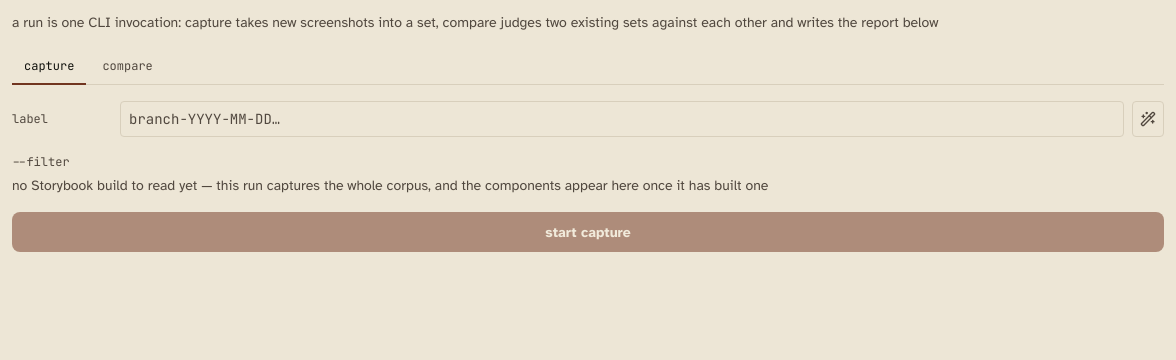
Test: the label wand › says so rather than doing nothing when no name can be had
Click the button named "suggest a label" at (1148, 119), box [1132,101,1164,137]
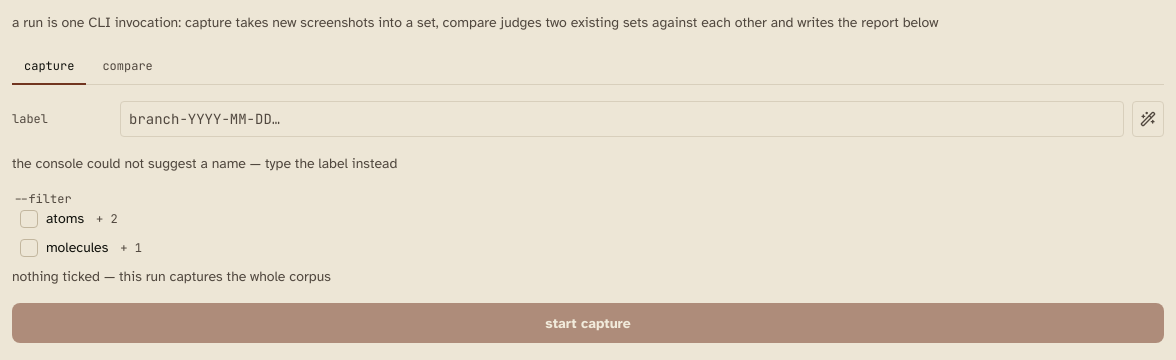
expect the text "the console could not suggest a name — type the label instead" is shown: met, box [12,155,397,172]
